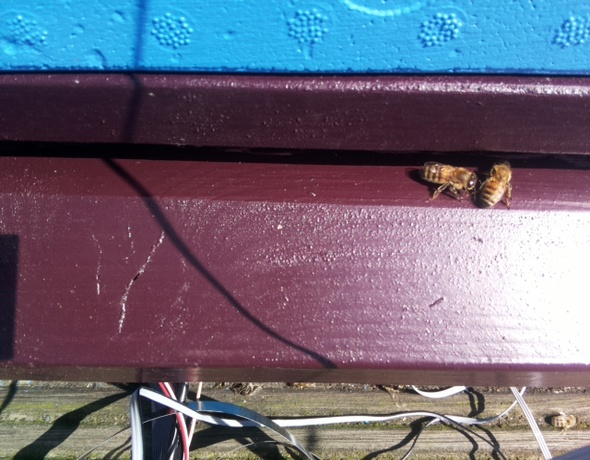no_pollen: (474, 160, 514, 213), (419, 161, 479, 195)
